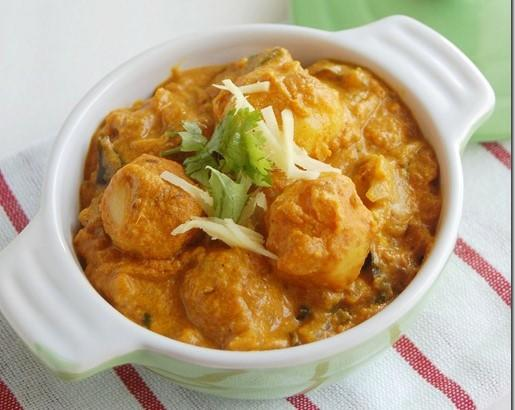DumAloo: (71, 48, 443, 350)
